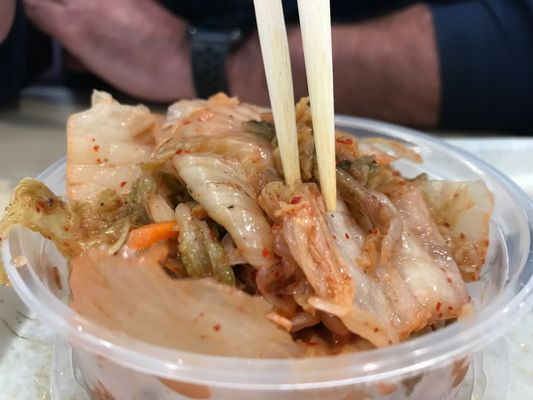sushi: (26, 113, 532, 400), (1, 219, 501, 399)
